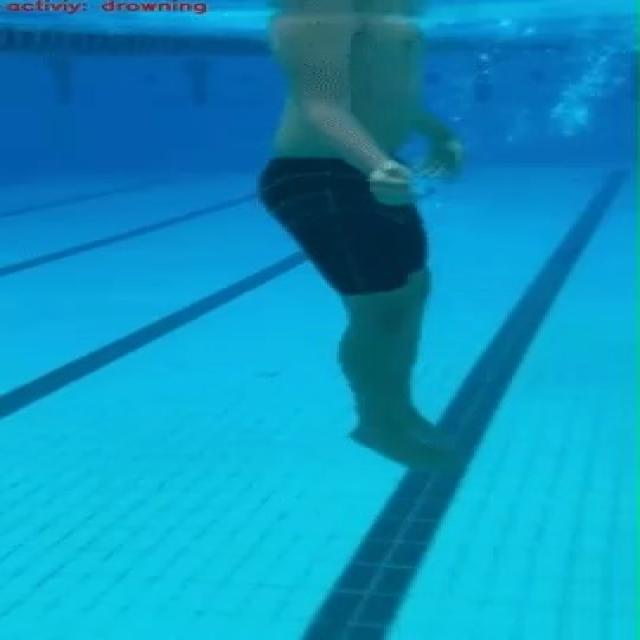Drowning: (251, 0, 483, 477)
